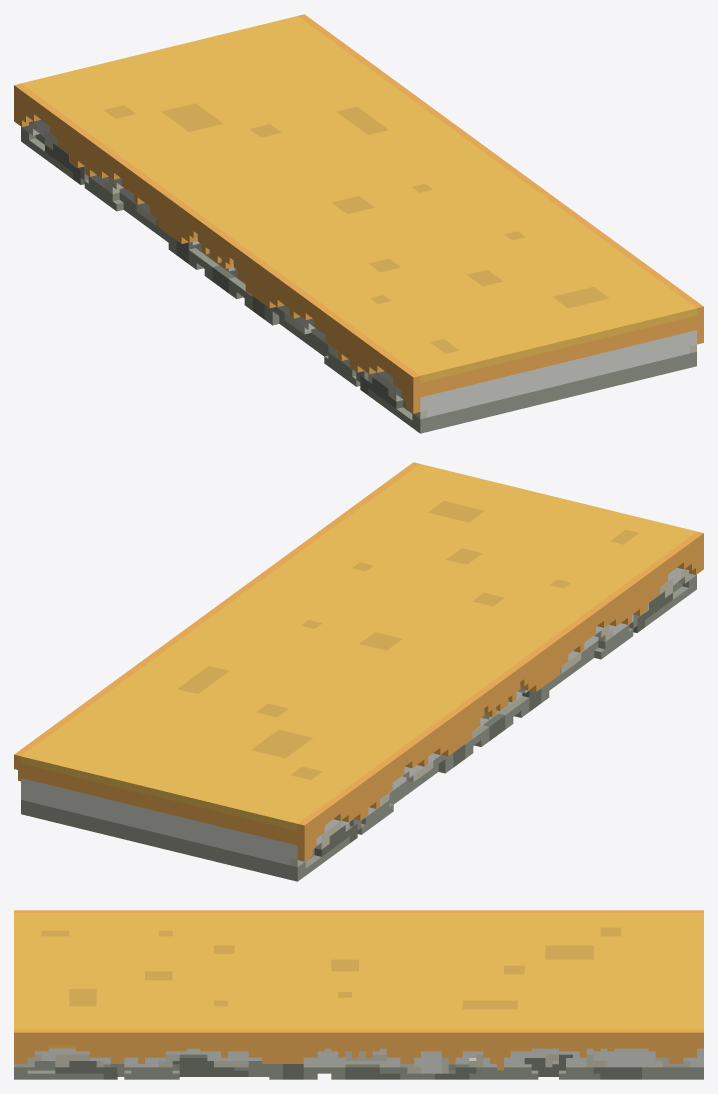
The model's file is ground_sand.obj.
3 views of the same model, one above another, from view 1: azimuth 30°, elevation 25°; view 2: azimuth 150°, elevation 25°; view 3: azimuth 270°, elevation 25° (orthographic). The views are drawn at different scales.
Size of the model in its own units: 42 by 8 by 100.
1 material, 1 textured.
